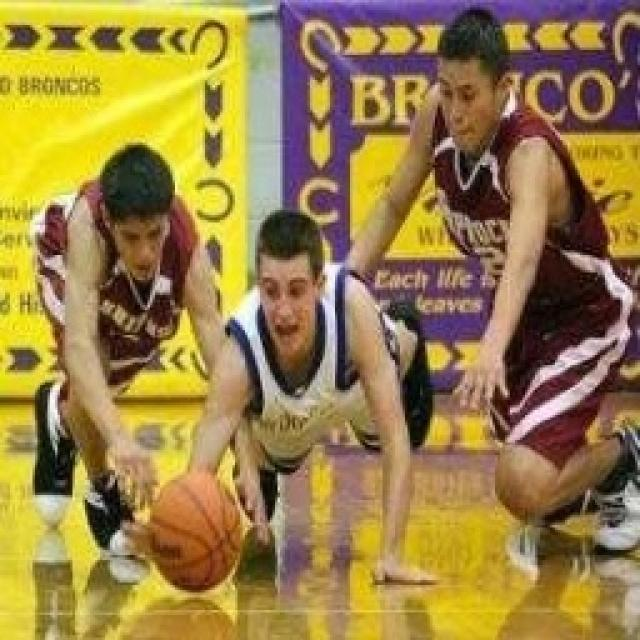rim: (142, 464, 252, 598)
